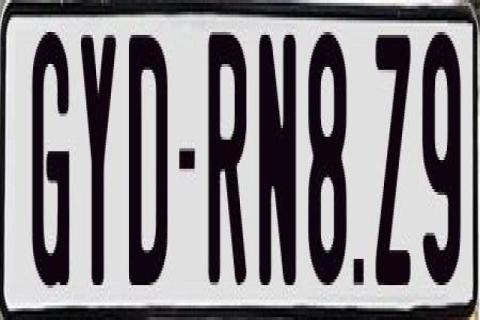0: (421, 23, 465, 285), (306, 23, 344, 291)
D: (129, 32, 169, 285)
G: (30, 32, 68, 291)
N: (257, 29, 300, 282)
R: (207, 29, 252, 294)
Y: (81, 32, 121, 282)
Z: (372, 32, 410, 291)
